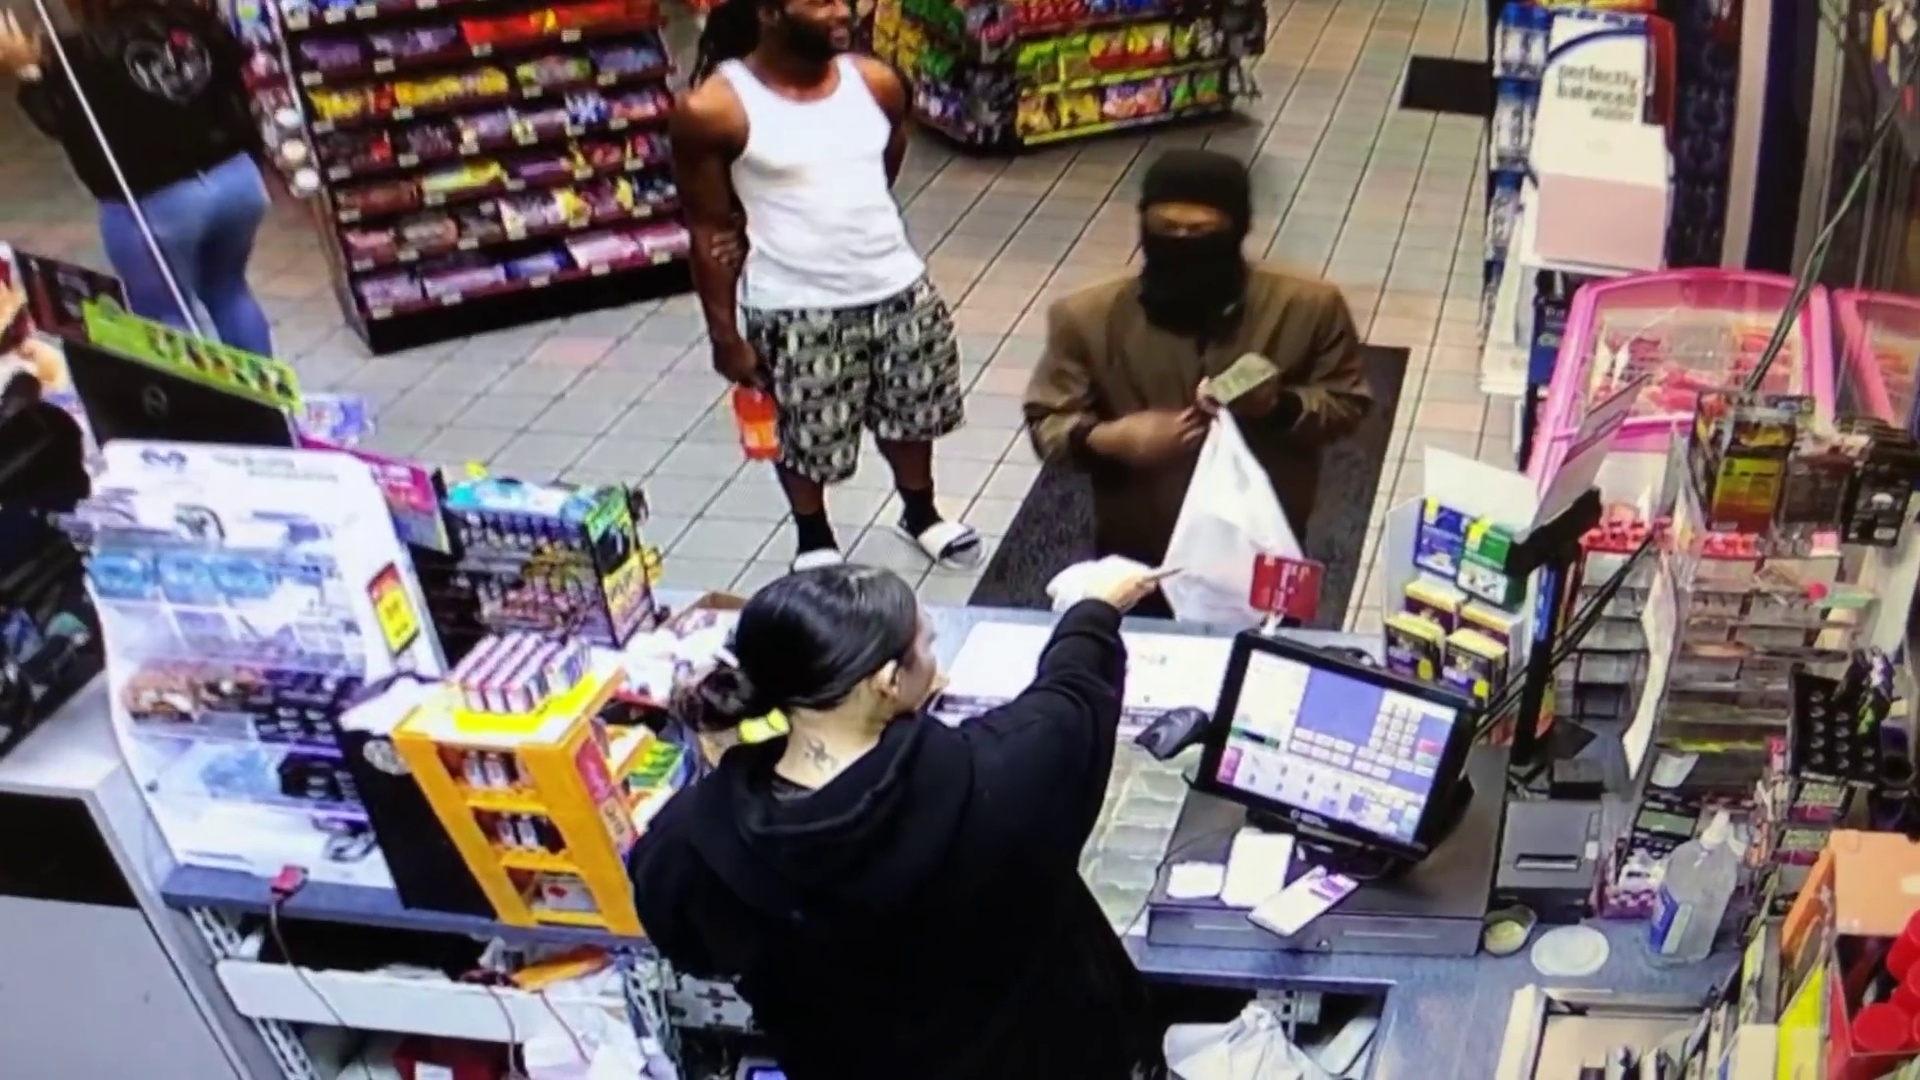face: (1144, 185, 1244, 267), (776, 0, 864, 56)
